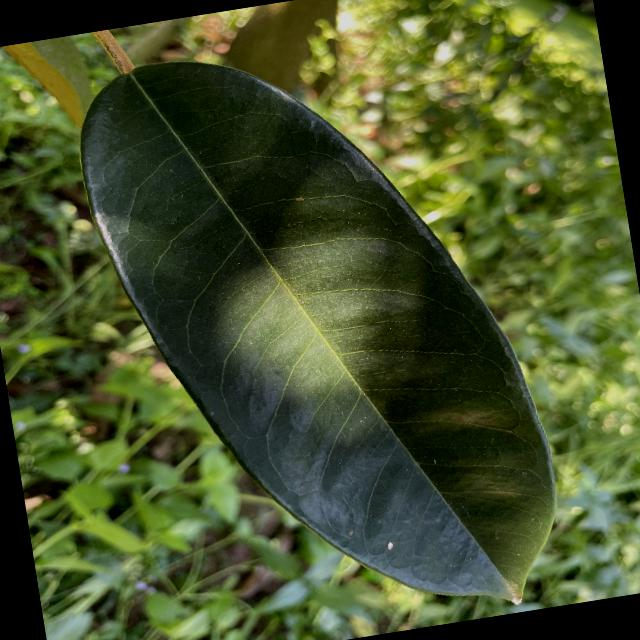No Disease: (60, 0, 587, 639)
